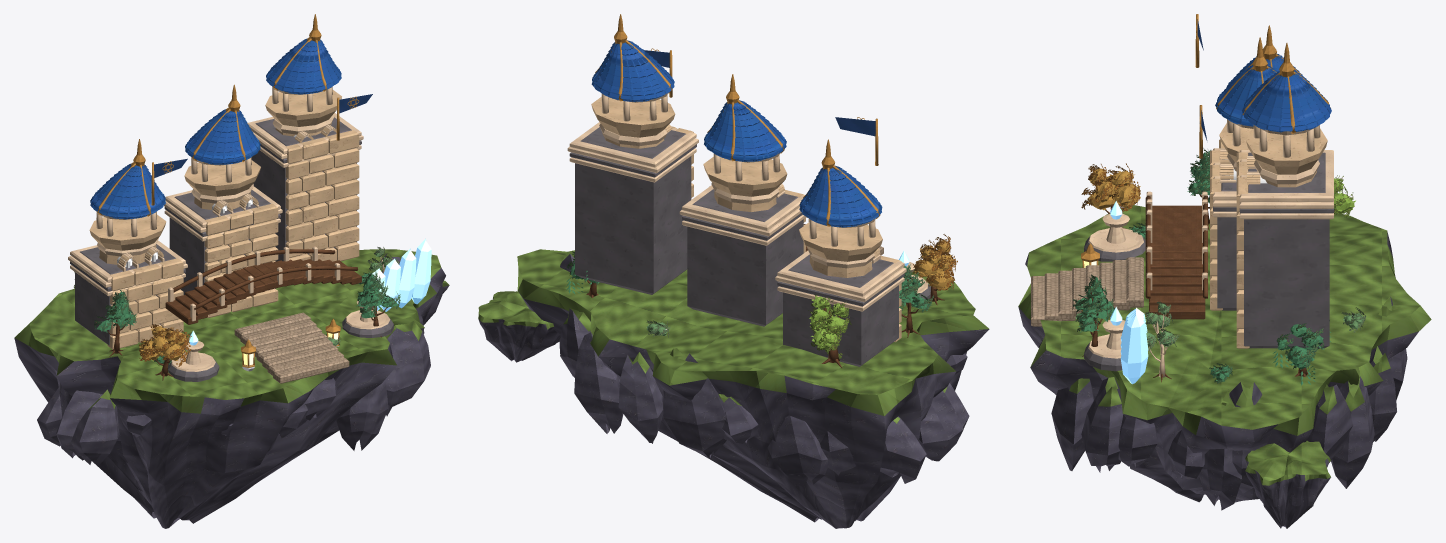
File: island-1.glb
3 views of the same model, side by side, from view 1: azimuth 30°, elevation 25°; view 2: azimuth 150°, elevation 25°; view 3: azimuth 270°, elevation 25° (orthographic). The views are drawn at different scales.
Parts seen in each view (by area): view 1: Stratified cliffs and meadow / cliff, Architecture / stone, Stratified cliffs and meadow / top, Architecture / trim, Architecture / joint, Architecture / roof, Architecture / wood, Architecture / paving, Canopy oak / sprays, Canopy oak / leaves, Architecture / gem, Architecture / gold (+1 smaller); view 2: Stratified cliffs and meadow / cliff, Architecture / joint, Stratified cliffs and meadow / top, Architecture / trim, Architecture / roof, Architecture / stone, Canopy oak / leaves, Canopy oak / sprays, Architecture / gold, Architecture / cloth, Architecture / wood; view 3: Stratified cliffs and meadow / top, Stratified cliffs and meadow / cliff, Architecture / joint, Architecture / trim, Architecture / wood, Architecture / stone, Architecture / roof, Canopy oak / leaves, Architecture / paving, Canopy oak / sprays, Architecture / gold, Architecture / gem.
Boxes of the visible parts, x1,y1,x2,y2 form: Stratified cliffs and meadow / cliff: (14,253,449,528); Architecture / stone: (89,90,359,349); Stratified cliffs and meadow / top: (14,249,449,413); Architecture / trim: (68,86,392,371); Architecture / joint: (70,117,393,381); Architecture / roof: (90,38,341,219); Architecture / wood: (96,249,395,380); Architecture / paving: (234,312,349,383); Canopy oak / sprays: (74,247,400,366); Canopy oak / leaves: (95,249,398,364); Architecture / gem: (189,239,431,345); Architecture / gold: (97,14,359,367); Stratified cliffs and meadow / cliff: (478,254,989,528); Architecture / joint: (569,127,930,366); Stratified cliffs and meadow / top: (478,249,988,423); Architecture / trim: (567,93,928,311); Architecture / roof: (591,40,882,227); Architecture / stone: (591,97,901,342); Canopy oak / leaves: (566,240,954,356); Canopy oak / sprays: (566,234,957,359); Architecture / gold: (595,14,880,226); Architecture / cloth: (644,50,875,136); Architecture / wood: (571,217,952,367); Stratified cliffs and meadow / top: (1018,205,1431,485); Stratified cliffs and meadow / cliff: (1018,232,1420,528); Architecture / joint: (1084,152,1333,371); Architecture / trim: (1088,119,1333,377); Architecture / wood: (1076,163,1349,382); Architecture / stone: (1210,123,1327,348); Architecture / roof: (1215,54,1331,132); Canopy oak / leaves: (1075,152,1363,385); Architecture / paving: (1031,257,1143,326); Canopy oak / sprays: (1073,148,1366,383); Architecture / gold: (1081,14,1330,328); Architecture / gem: (1110,201,1148,384).
Size of the model in its own units: 6.4 by 6.64 by 4.48.
Materials: 19 (12 with a texture image).
